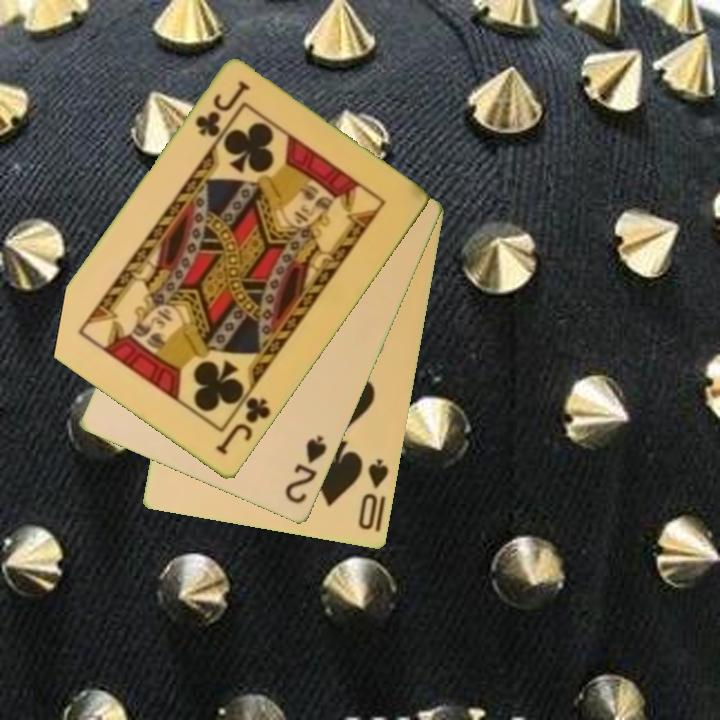10s: (355, 456, 392, 534)
2s: (281, 432, 330, 508)
Jc: (212, 394, 274, 459), (191, 77, 253, 141)
